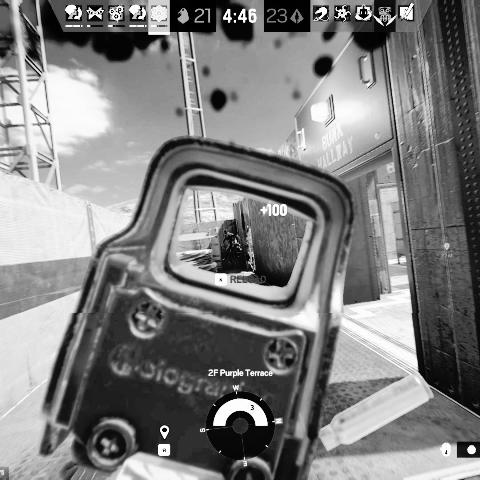Character: (220, 228, 244, 262)
Head: (223, 229, 228, 234)
